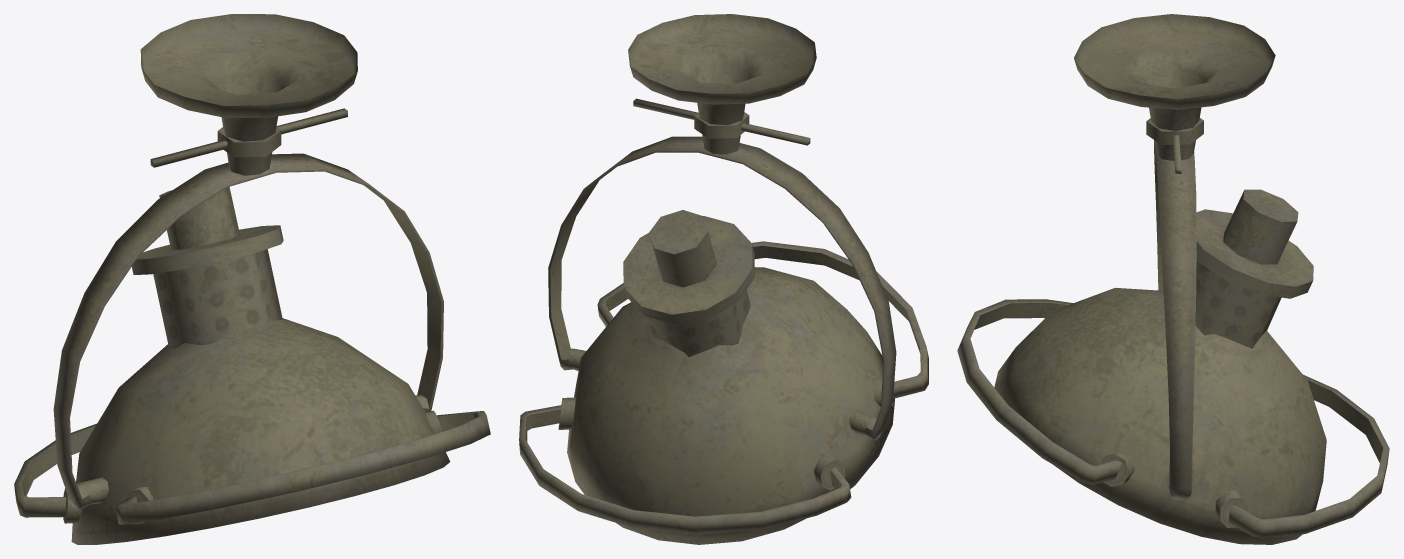
The model's file is sm35_015_infirmarylight01a.fbx.
3 views of the same model, side by side, from view 1: azimuth 30°, elevation 25°; view 2: azimuth 150°, elevation 25°; view 3: azimuth 270°, elevation 25° (orthographic). The views are drawn at different scales.
Visible parts, largest first — view 1: LOD_1_Group_0_Sub_1__sm35_015_InfirmaryLight01A_B_Mat; view 2: LOD_1_Group_0_Sub_1__sm35_015_InfirmaryLight01A_B_Mat; view 3: LOD_1_Group_0_Sub_1__sm35_015_InfirmaryLight01A_B_Mat.
Part boxes in pixels (box(x1,y1,x2,y2)): LOD_1_Group_0_Sub_1__sm35_015_InfirmaryLight01A_B_Mat: box(14, 14, 490, 544); LOD_1_Group_0_Sub_1__sm35_015_InfirmaryLight01A_B_Mat: box(519, 14, 928, 544); LOD_1_Group_0_Sub_1__sm35_015_InfirmaryLight01A_B_Mat: box(957, 14, 1389, 544).
Bounding box in the file's own units: 0.7349 × 0.9227 × 0.7931.
